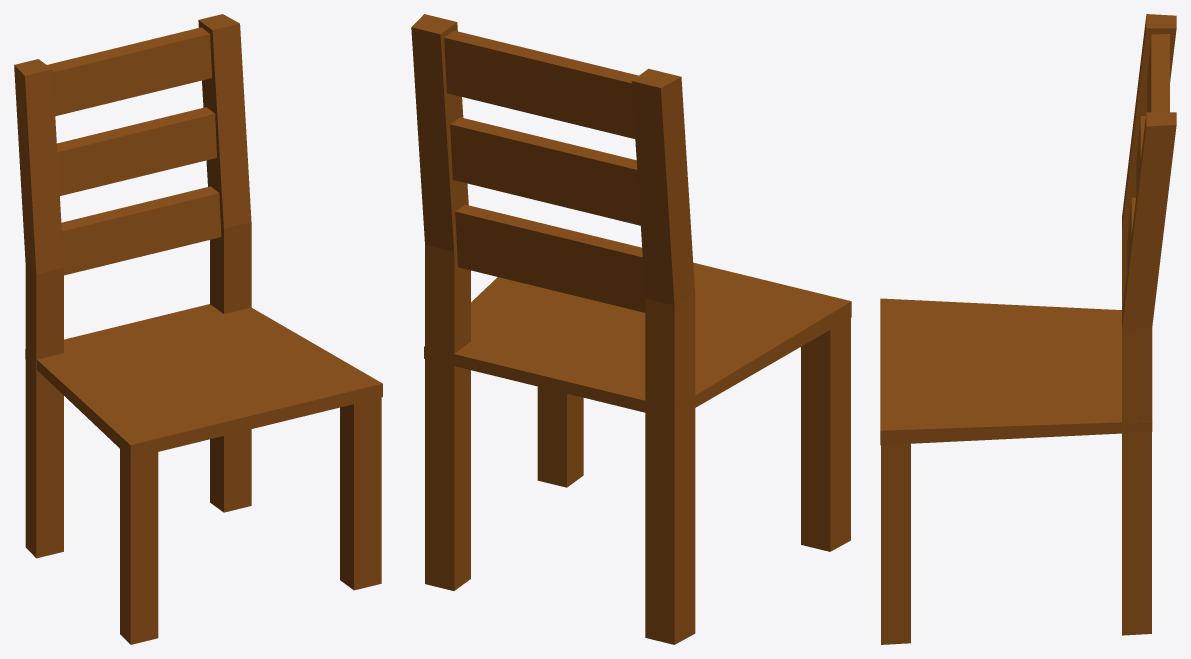
The model's file is Chair.glb.
3 renders of one model, left to right at view 1: azimuth 30°, elevation 25°; view 2: azimuth 150°, elevation 25°; view 3: azimuth 270°, elevation 25°, orthographic. The views are drawn at different scales.
Visible parts, largest first — view 1: Chair; view 2: Chair; view 3: Chair.
Part boxes in pixels (x1,y1,x2,y2): Chair: (14, 14, 382, 644); Chair: (411, 14, 851, 644); Chair: (880, 14, 1176, 644).
Bounding box in the file's own units: 0.8784 × 1.58 × 0.8321.
